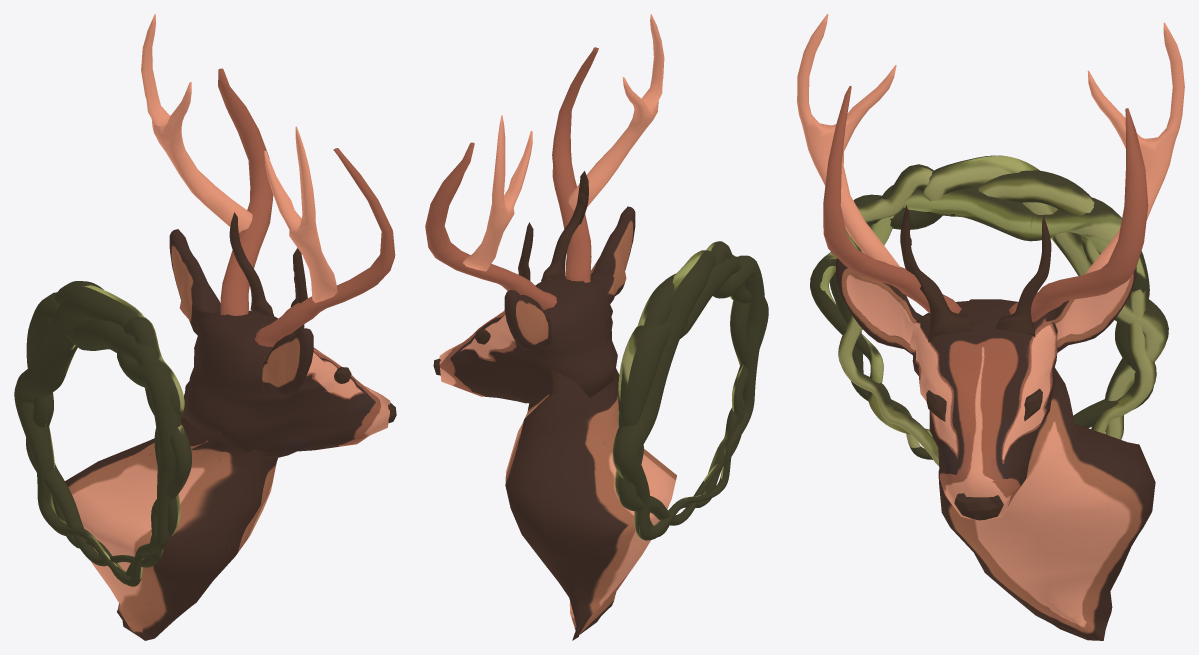
Rendered from deer.glb.
3 views of the same model, side by side, from view 1: azimuth 30°, elevation 25°; view 2: azimuth 150°, elevation 25°; view 3: azimuth 270°, elevation 25° (orthographic). The views are drawn at different scales.
Visible parts, largest first — view 1: Cube.003, BezierCurve.001, Cube.002, Cylinder, Cylinder.001, Cube.004, BezierCurve; view 2: Cube.003, BezierCurve.001, Cube.002, Cylinder, Cylinder.001, Cube.004, BezierCurve; view 3: BezierCurve.001, Cube.003, Cube.002, Cylinder, Cylinder.001, Cube.004, BezierCurve, Icosphere.002, Icosphere.003.
Boxes of the visible parts, bbox=[...] form: Cube.003: bbox=[65, 381, 277, 640]; BezierCurve.001: bbox=[14, 281, 191, 586]; Cube.002: bbox=[182, 310, 390, 458]; Cylinder: bbox=[218, 68, 395, 346]; Cylinder.001: bbox=[141, 14, 337, 302]; Cube.004: bbox=[169, 229, 313, 395]; BezierCurve: bbox=[229, 212, 307, 333]; Cube.003: bbox=[505, 368, 676, 640]; BezierCurve.001: bbox=[612, 241, 768, 540]; Cube.002: bbox=[439, 276, 617, 404]; Cylinder: bbox=[425, 47, 598, 309]; Cylinder.001: bbox=[463, 14, 664, 271]; Cube.004: bbox=[504, 206, 635, 350]; BezierCurve: bbox=[518, 171, 588, 286]; BezierCurve.001: bbox=[810, 155, 1168, 465]; Cube.003: bbox=[938, 367, 1155, 640]; Cube.002: bbox=[909, 299, 1057, 519]; Cylinder: bbox=[823, 86, 1148, 322]; Cylinder.001: bbox=[797, 14, 1184, 274]; Cube.004: bbox=[836, 258, 1136, 354]; BezierCurve: bbox=[900, 205, 1051, 342]; Icosphere.002: bbox=[954, 493, 1003, 520]; Icosphere.003: bbox=[926, 388, 1042, 421].
Bounding box in the file's own units: 4.75 × 8.85 × 4.8.
Materials: 9 (6 with a texture image).
